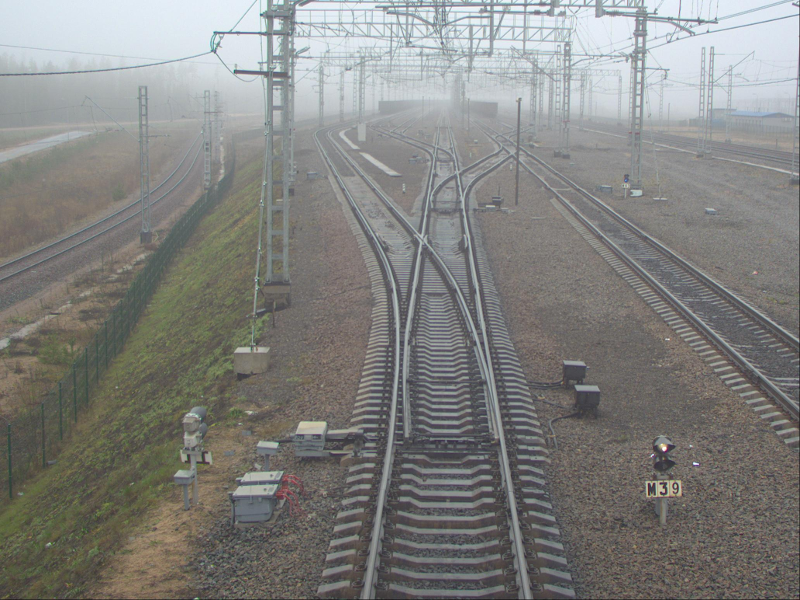railway_arrows: (392, 235, 506, 448), (422, 172, 468, 209)
